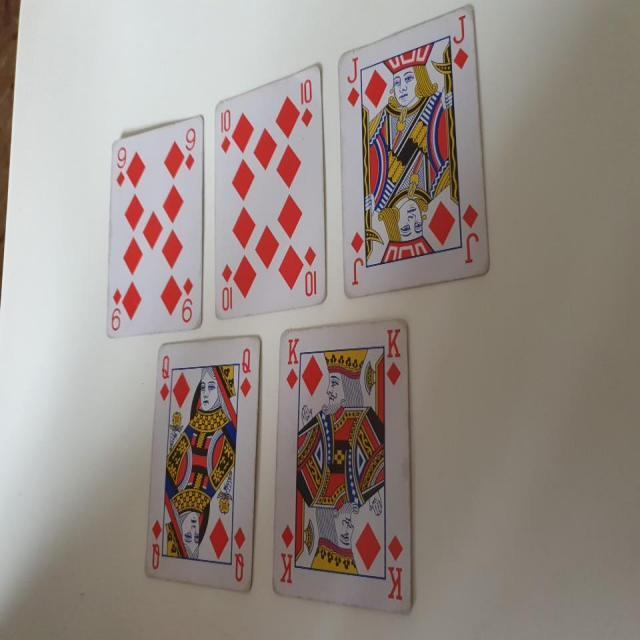10 of diamonds: (213, 61, 330, 322)
9 of diamonds: (104, 111, 206, 336)
jack of diamonds: (334, 2, 490, 302)
king of diamonds: (270, 316, 416, 616)
queen of diamonds: (143, 334, 264, 594)
